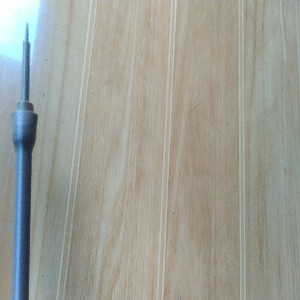solder: (9, 19, 39, 300)
